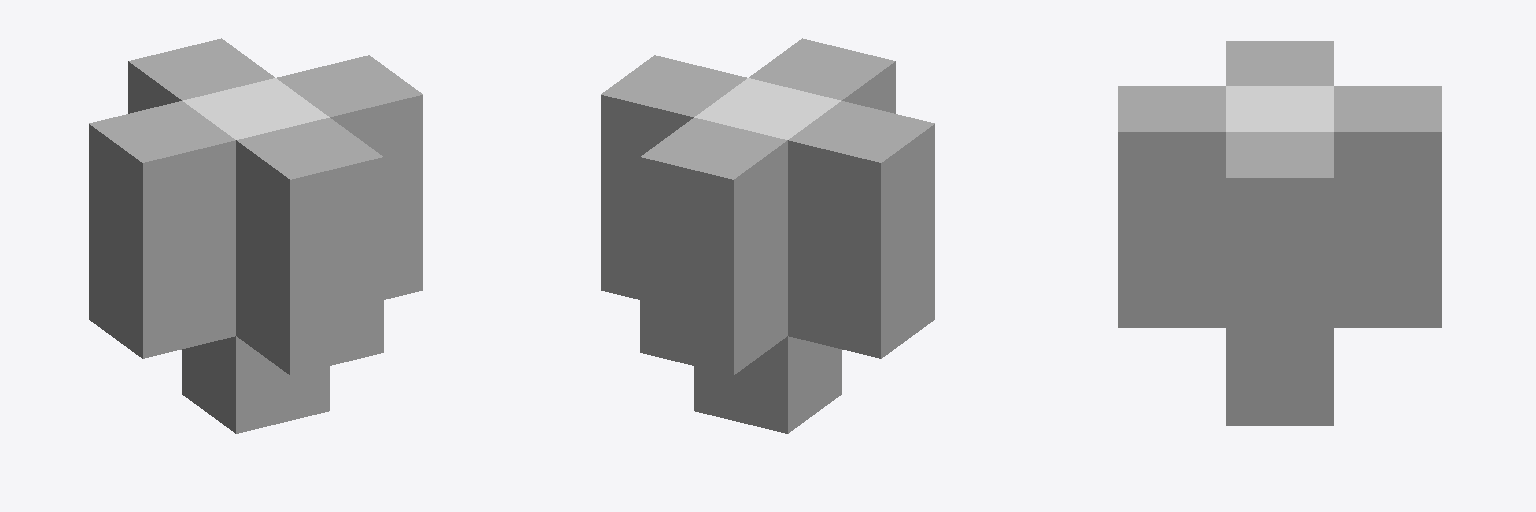
3 renders of one model, left to right at view 1: azimuth 30°, elevation 25°; view 2: azimuth 150°, elevation 25°; view 3: azimuth 270°, elevation 25°, orthographic.
Visible parts, largest first — view 1: object 1; view 2: object 1; view 3: object 1.
Boxes of the visible parts, x1,y1,x2,y2 form: object 1: [89, 38, 422, 433]; object 1: [601, 38, 934, 433]; object 1: [1118, 41, 1441, 425].
Bounding box in the file's own units: 0.3 × 0.3 × 0.3.
Materials: 1 (1 with a texture image).